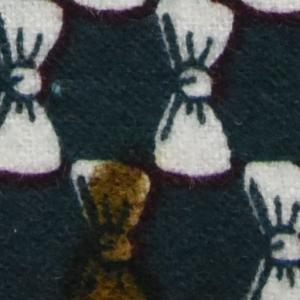Oil Stain: (68, 137, 165, 300)
